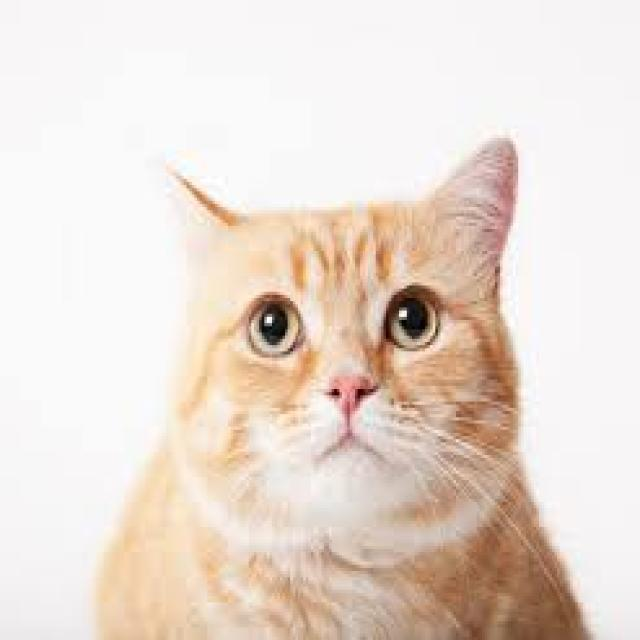cat: (93, 149, 597, 640)
